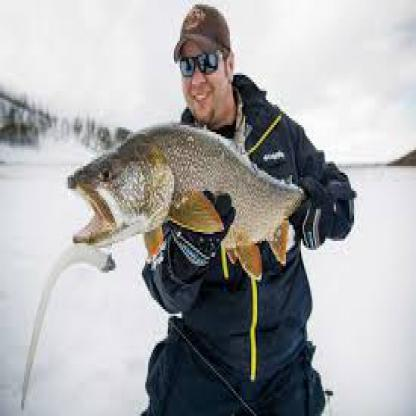fish: (60, 108, 330, 275)
